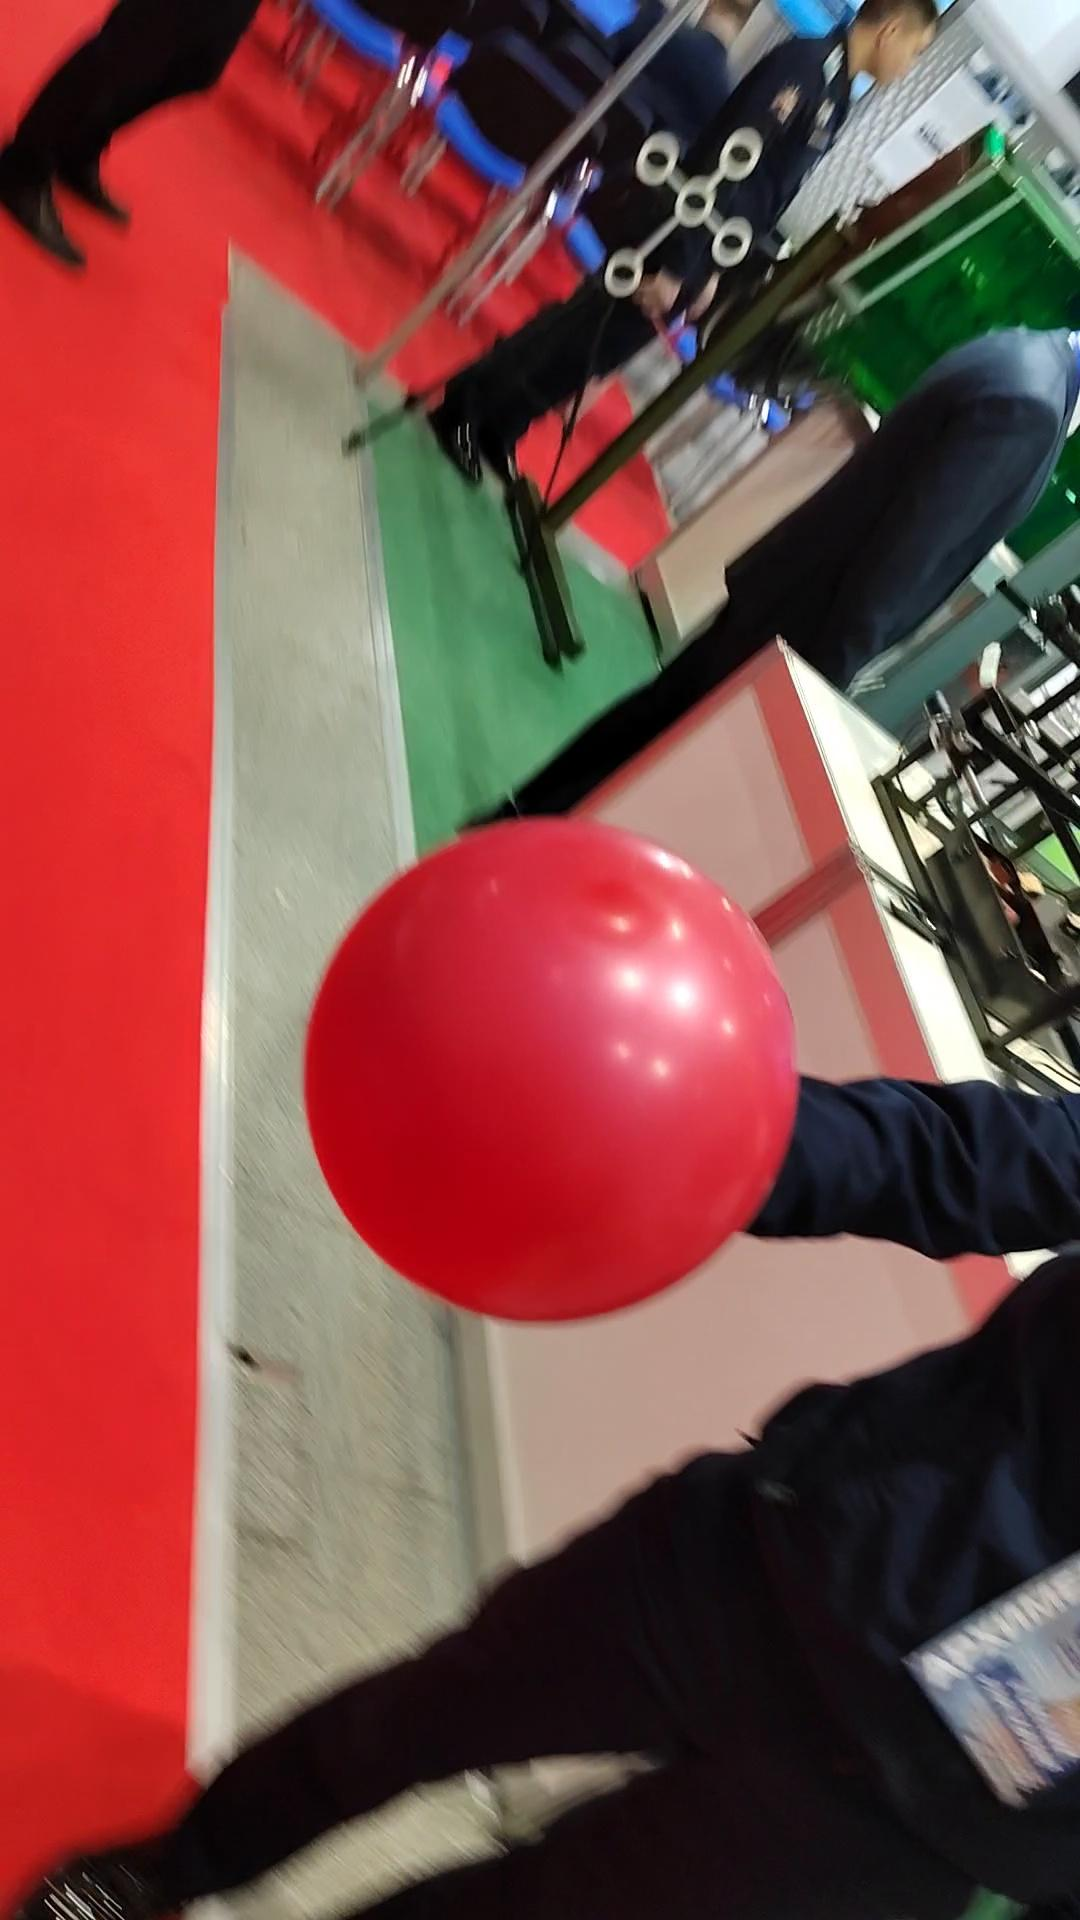red: (284, 814, 803, 1324)
